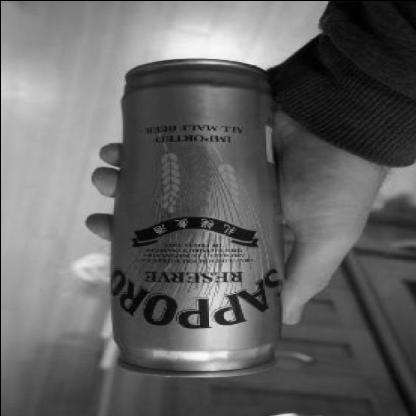alumunium_can: (104, 57, 292, 384)
